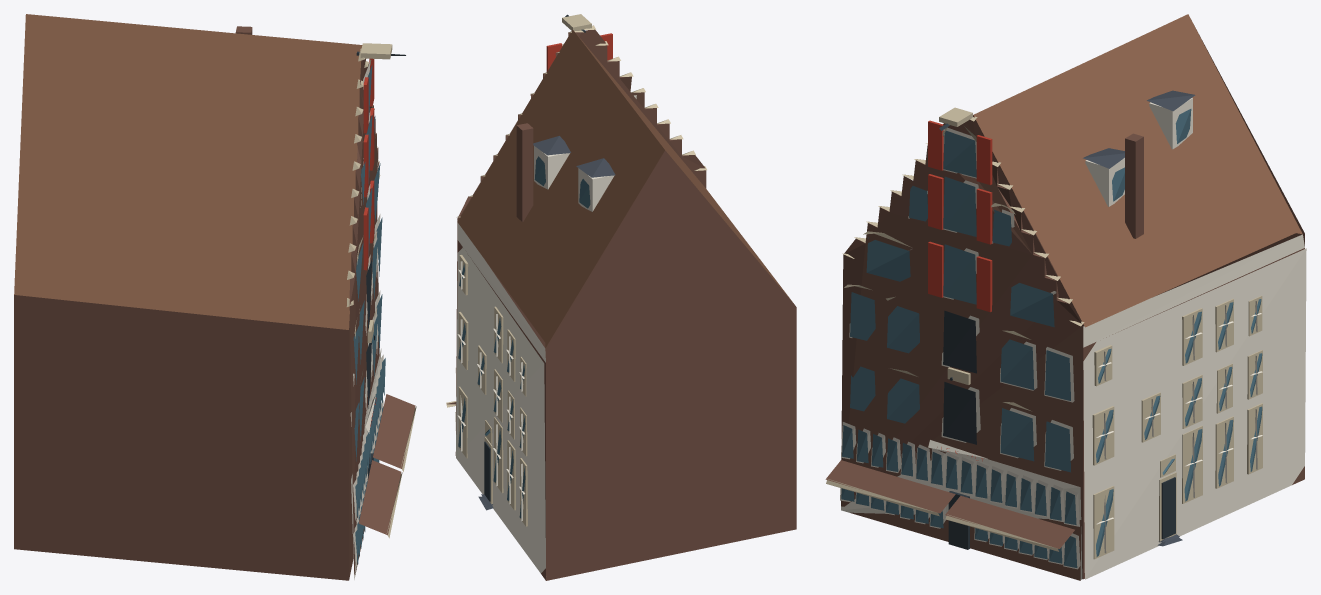
File: cafe-kobalt.lod1.glb
3 views of the same model, side by side, from view 1: azimuth 30°, elevation 25°; view 2: azimuth 150°, elevation 25°; view 3: azimuth 270°, elevation 25° (orthographic). The views are drawn at different scales.
Parts seen in each view (by area): view 1: cafe-kobalt; view 2: cafe-kobalt; view 3: cafe-kobalt.
Part boxes in pixels (bbox=[...]): cafe-kobalt: bbox=[14, 14, 416, 580]; cafe-kobalt: bbox=[446, 14, 796, 580]; cafe-kobalt: bbox=[825, 14, 1306, 580].
Bounding box in the file's own units: 16.46 × 18.25 × 18.35.
